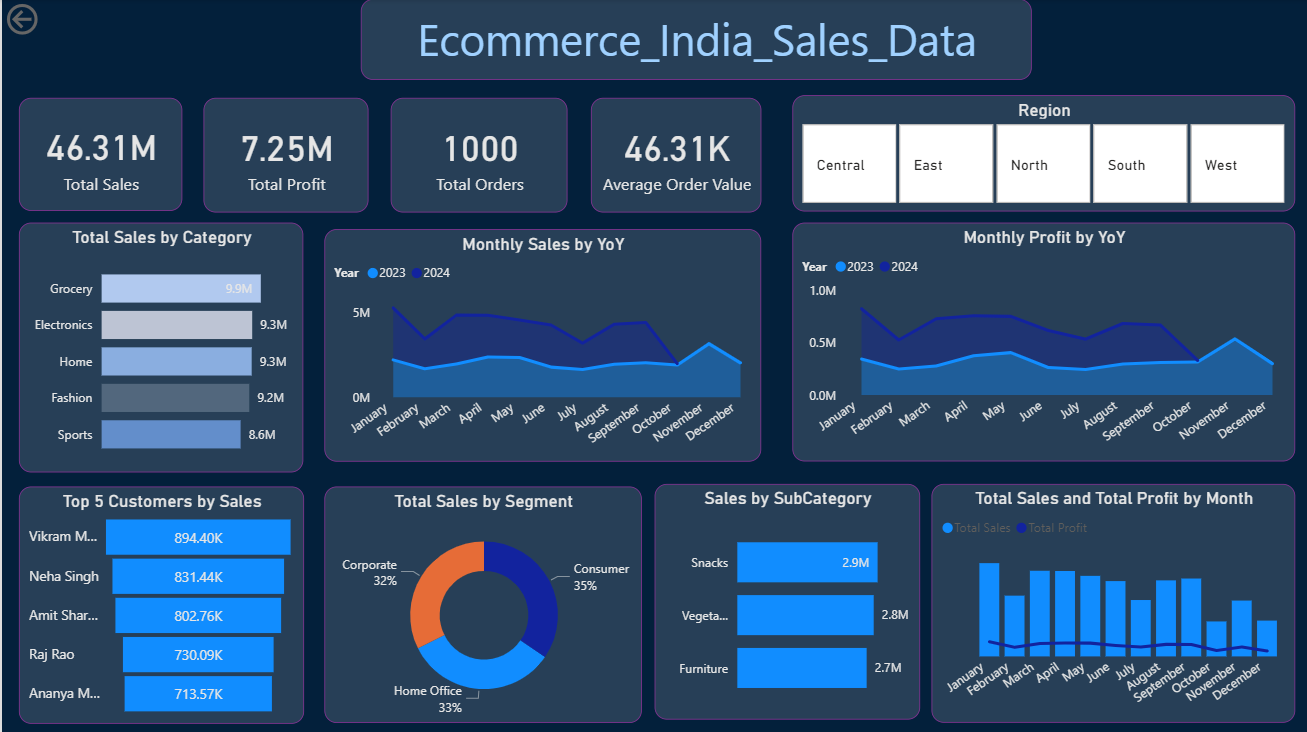

This screenshot's page, from the dashboard's own definition file:
{"tool":"powerbi","page":{"name":"Page 1","canvas":[1280,720],"ordinal":0},"visuals":[{"type":"clusteredBarChart","fields":{"Category":["Super_Sales.Category"],"Y":["Super_Sales.Total Sales"]},"box":[16.5,218.9,278.8,244.4],"z":0},{"type":"clusteredBarChart","title":" Sales by SubCategory","fields":{"Category":["Super_Sales.Sub-Category"],"Y":["Super_Sales.Total Sales"]},"box":[639.5,474.5,259.9,230.7],"z":1000},{"type":"stackedAreaChart","title":"Monthly Sales by YoY","fields":{"Y":["Sum(Super_Sales.Sales (INR))"],"Category":["Super_Sales.Order Date.Variation.Date Hierarchy.Month","Super_Sales.Order Date.Variation.Date Hierarchy.Day"],"Series":["Super_Sales.Order Date.Variation.Date Hierarchy.Year"]},"box":[315.7,225.3,427.7,227.8],"z":2000},{"type":"stackedAreaChart","title":"Monthly Profit by YoY","fields":{"Category":["Super_Sales.Order Date.Variation.Date Hierarchy.Month","Super_Sales.Order Date.Variation.Date Hierarchy.Day"],"Series":["Super_Sales.Order Date.Variation.Date Hierarchy.Year"],"Y":["Sum(Super_Sales.Profit (INR))"]},"box":[773.9,218.9,492.6,234.2],"z":3000},{"type":"donutChart","fields":{"Category":["Super_Sales.Segment"],"Y":["Super_Sales.Total Sales"]},"box":[315.7,477.3,310.6,231.7],"z":4000},{"type":"advancedSlicerVisual","fields":{"Values":["Super_Sales.Region"]},"box":[773.4,93.8,492.2,114.1],"z":5000},{"type":"textbox","box":[351.3,0,656.8,78.9],"z":6000},{"type":"card","fields":{"Values":["Super_Sales.Total Profit"]},"box":[197,97,161.2,111.9],"z":7000},{"type":"card","fields":{"Values":["Super_Sales.Total Sales"]},"box":[16.4,97,159.7,110.4],"z":8000},{"type":"card","fields":{"Values":["Super_Sales.Total Orders"]},"box":[380.6,97,173.1,111.9],"z":9000},{"type":"card","fields":{"Values":["Super_Sales.Average Order Value"]},"box":[576.1,97,167.2,111.9],"z":10000},{"type":"lineClusteredColumnComboChart","fields":{"Category":["Super_Sales.Order Date.Variation.Date Hierarchy.Month"],"Y":["Super_Sales.Total Sales"],"Y2":["Super_Sales.Total Profit"]},"box":[910.1,474.8,356.4,234.2],"z":12000},{"type":"actionButton","box":[0,0,100,40],"z":13000},{"type":"funnel","title":"Top 5 Customers by Sales","fields":{"Category":["Super_Sales.Customer Name"],"Y":["Super_Sales.Total Sales"]},"box":[17,477,279,232],"z":13001}]}

Visuals, with their boxes in screenshot pixels (x1, y1, x2, y2), scaled from the page's 1280x720 canvas onto the 1307x732 screenshot:
clusteredBarChart - Super_Sales.Category x Super_Sales.Total Sales: bbox=(17, 223, 302, 471)
" Sales by SubCategory" clusteredBarChart: bbox=(653, 482, 918, 717)
"Monthly Sales by YoY" stackedAreaChart: bbox=(322, 229, 759, 461)
"Monthly Profit by YoY" stackedAreaChart: bbox=(790, 223, 1293, 461)
donutChart - Super_Sales.Segment x Super_Sales.Total Sales: bbox=(322, 485, 640, 721)
advancedSlicerVisual - Super_Sales.Region: bbox=(790, 95, 1292, 211)
textbox: bbox=(359, 0, 1029, 80)
card - Super_Sales.Total Profit: bbox=(201, 99, 366, 212)
card - Super_Sales.Total Sales: bbox=(17, 99, 180, 211)
card - Super_Sales.Total Orders: bbox=(389, 99, 565, 212)
card - Super_Sales.Average Order Value: bbox=(588, 99, 759, 212)
lineClusteredColumnComboChart - Super_Sales.Order Date.Variation.Date Hierarchy.Month x Super_Sales.Total Sales: bbox=(929, 483, 1293, 721)
actionButton: bbox=(0, 0, 102, 41)
"Top 5 Customers by Sales" funnel: bbox=(17, 485, 302, 721)
